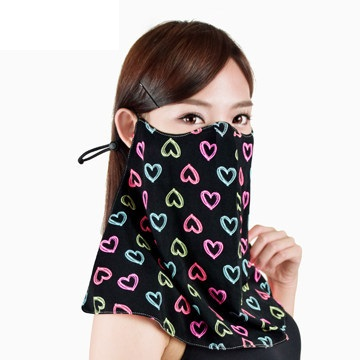face_mask: (143, 68, 256, 198)
